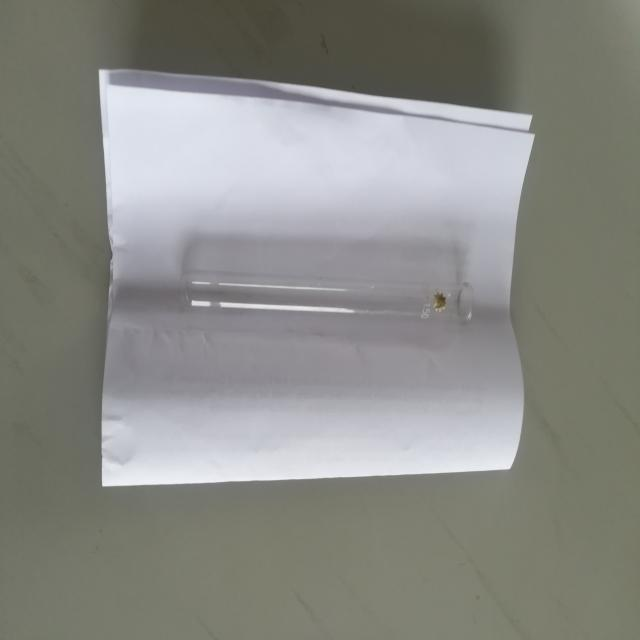Test_Tube: (157, 218, 501, 388)
